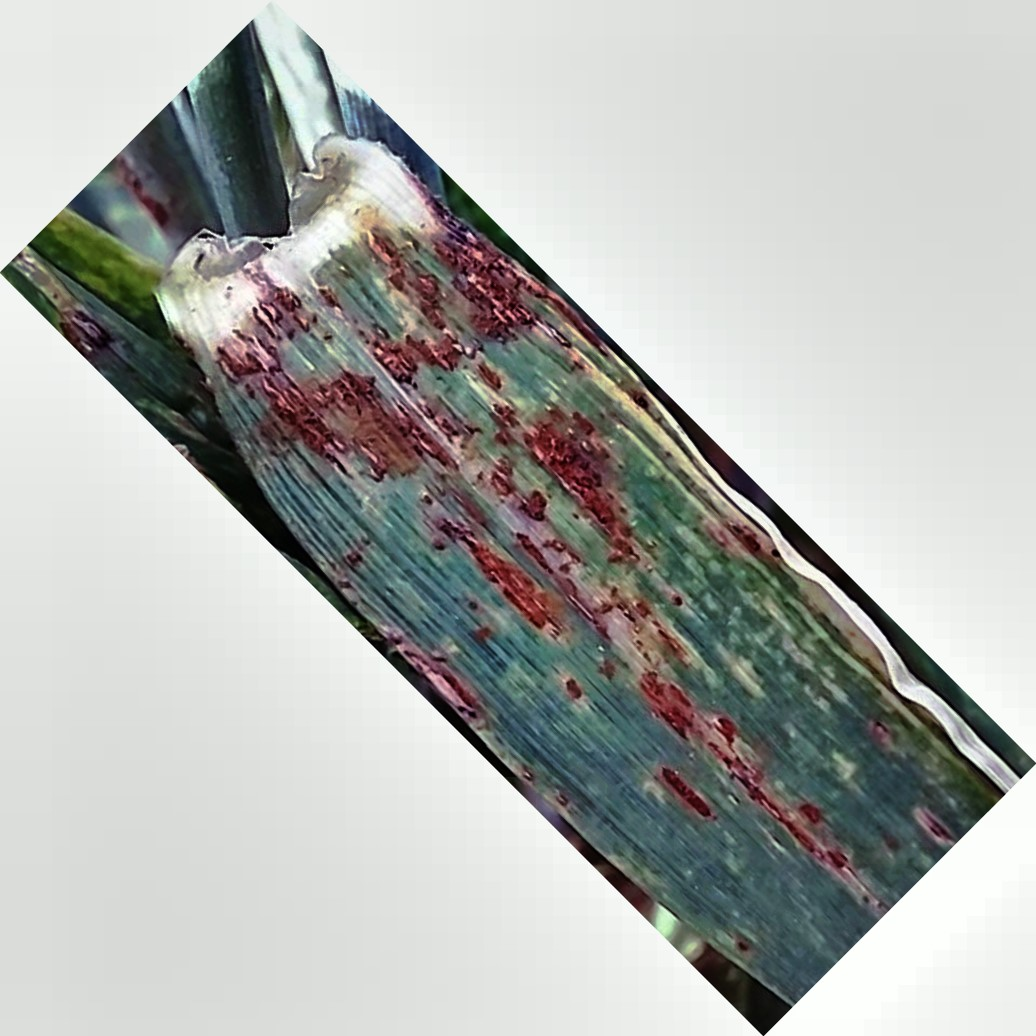Leaf Rust: (197, 246, 849, 855)
